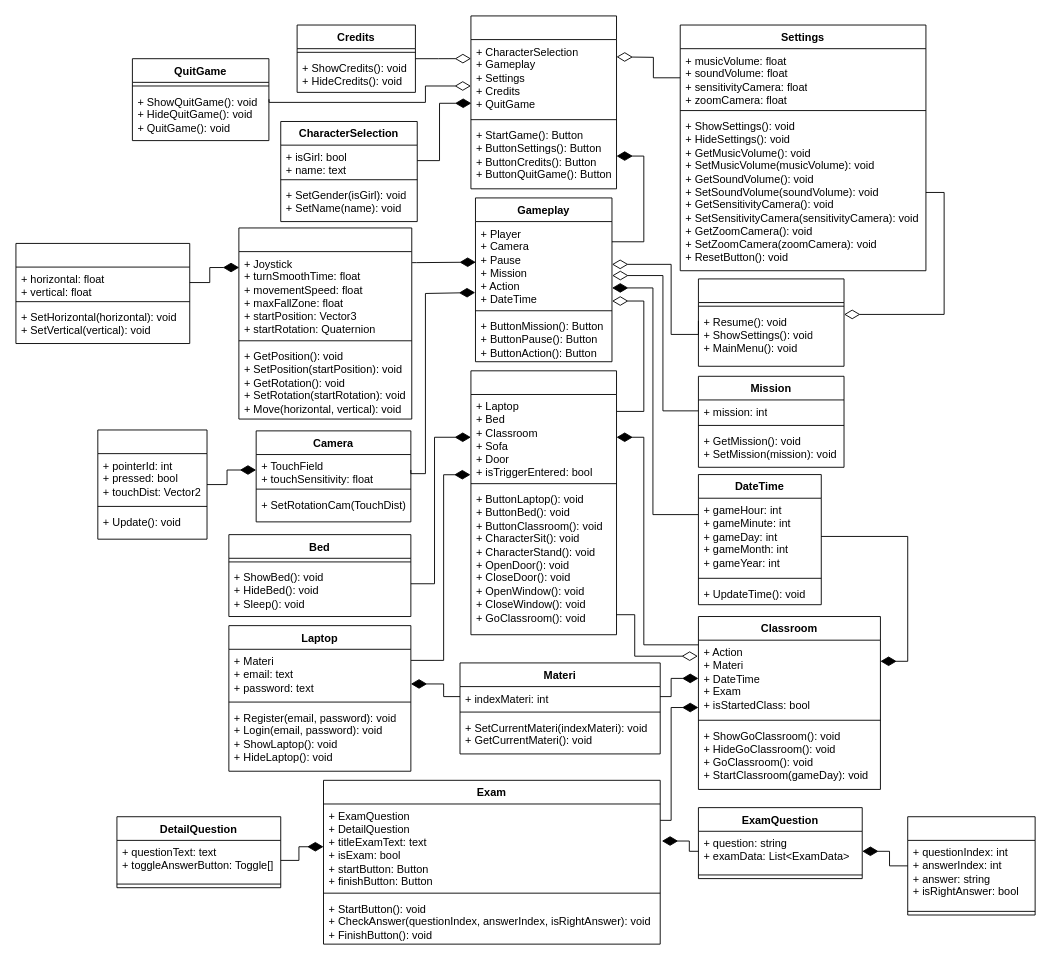
Some shapes in this 1051 by 963 pixel diagram are drawn without their labels. Each missing label, with the box of its shape:
Action: (470, 370, 617, 635)
ExamData: (907, 816, 1035, 915)
Joystick: (15, 243, 190, 344)
MainMenu: (470, 15, 617, 189)
Pause: (698, 278, 844, 366)
Player: (238, 227, 412, 419)
TouchField: (97, 429, 207, 539)
